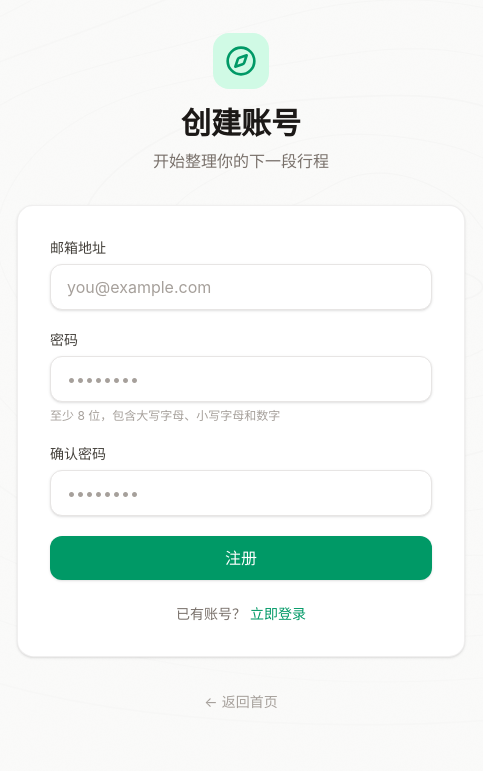
Test: signUpPage › validates password requirements before email sign-up
In the field labelled "邮箱地址": (241, 287) [50,264,432,310], type "owner@example.com"
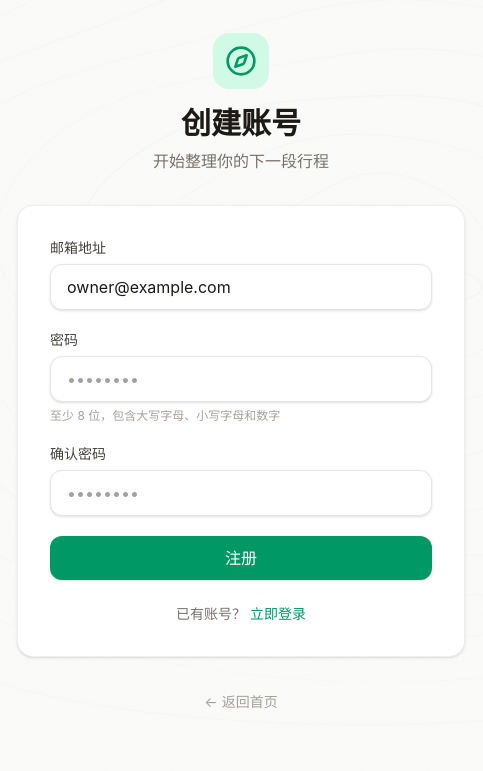
In the password field labelled "密码": (241, 379) [50,356,432,402], type "short"
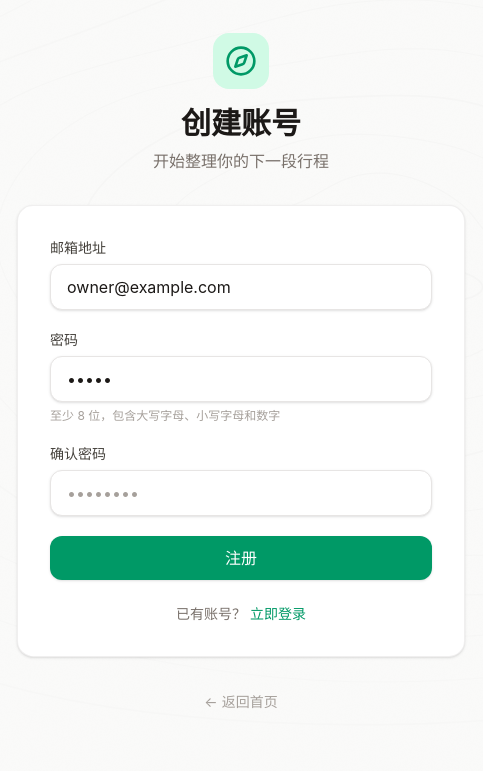
In the password field labelled "确认密码": (241, 493) [50,470,432,516], type "short"
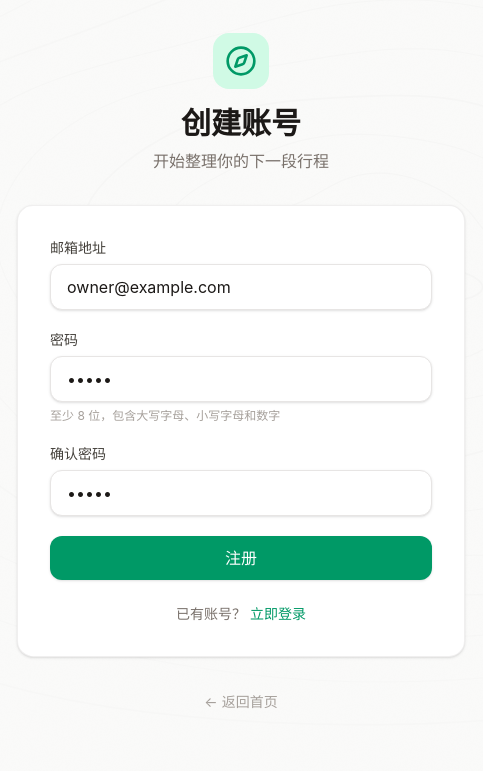
Click the button "注册": click(241, 558) [50,536,432,580]
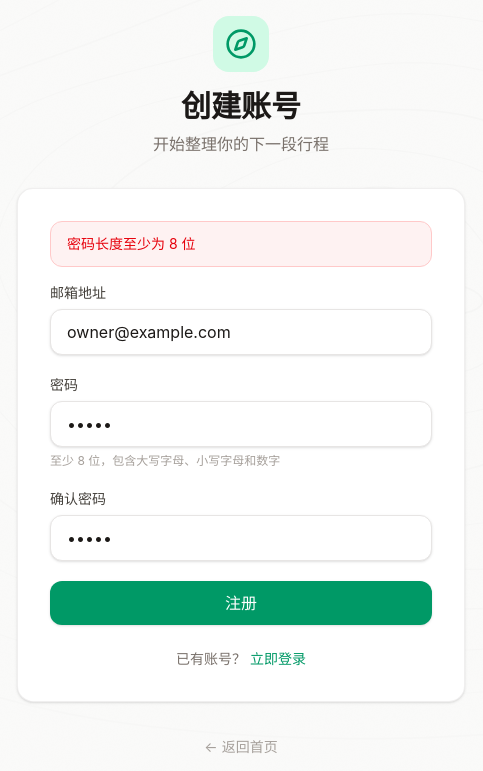
Check: the text "密码长度至少为 8 位" is shown, box [50,221,432,267]
